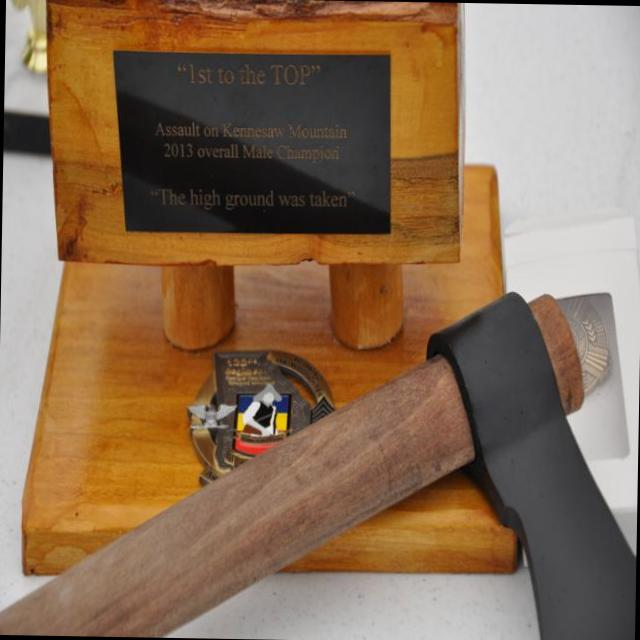Axe: (0, 293, 636, 640)
